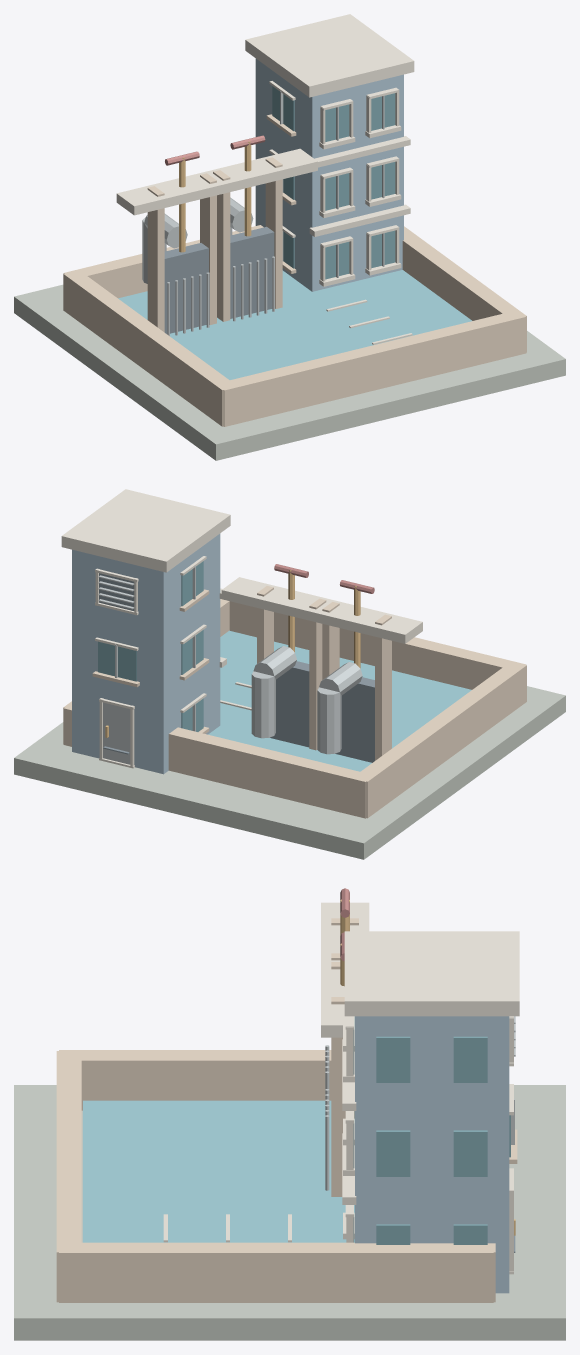
The model's file is dot-tpl-water-2.glb.
3 views of the same model, one above another, from view 1: azimuth 30°, elevation 25°; view 2: azimuth 150°, elevation 25°; view 3: azimuth 270°, elevation 25° (orthographic). The views are drawn at different scales.
Parts seen in each view (by area): view 1: paving; view 2: paving; view 3: paving.
Boxes of the visible parts, x1=… form: paving: x1=14, y1=14, x2=565, y2=460; paving: x1=14, y1=489, x2=565, y2=859; paving: x1=14, y1=888, x2=565, y2=1340.
Size of the model in its own units: 4 by 2.55 by 4.
1 material, 1 textured.
